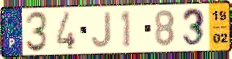1: (120, 9, 132, 50)
3: (181, 6, 208, 49), (24, 10, 49, 53)
4: (55, 10, 77, 51)
8: (154, 8, 177, 48)
J: (90, 11, 113, 49)
